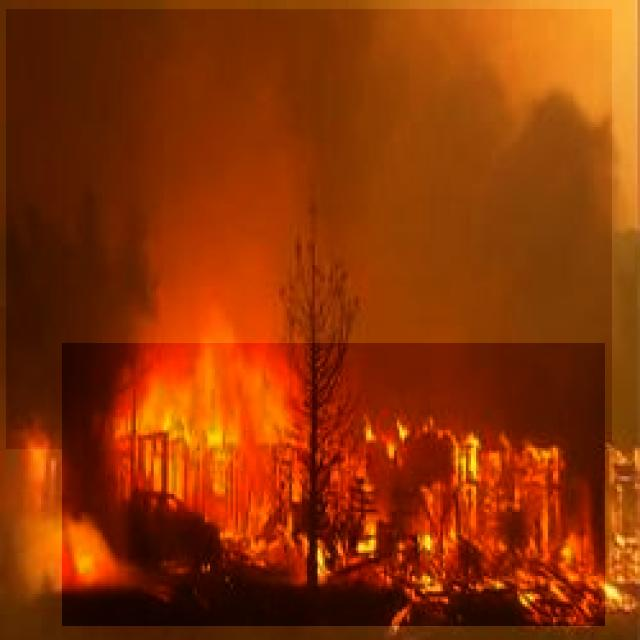Fire: (62, 343, 605, 626)
Smoke: (6, 9, 612, 450)
